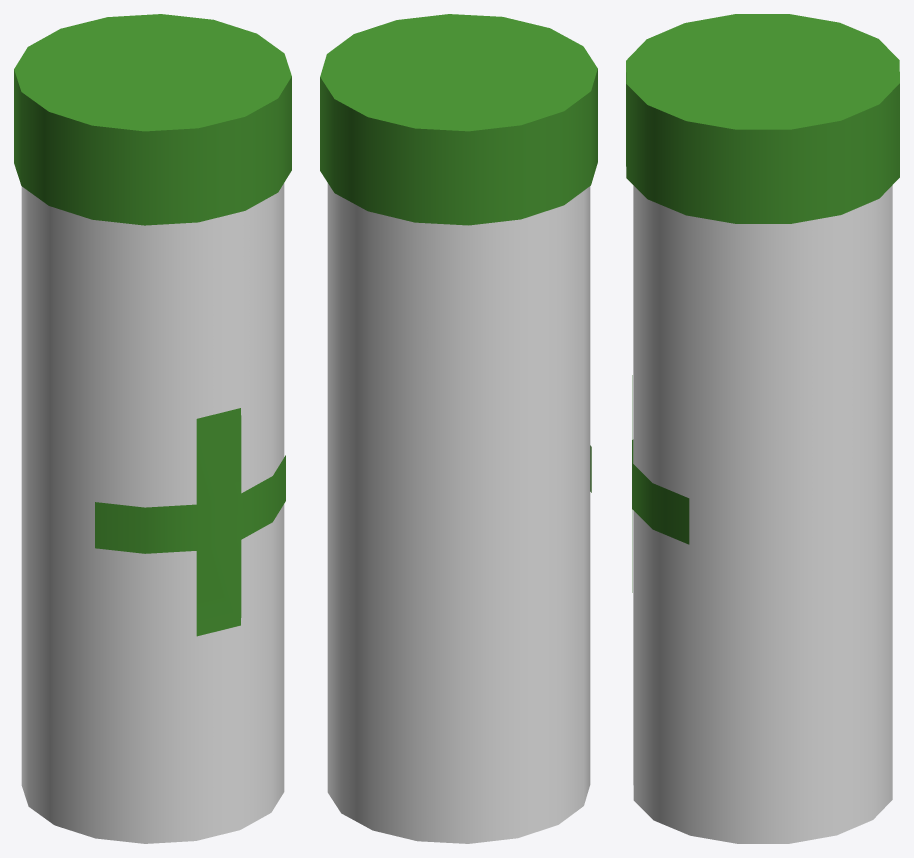
File: Midicine_03.fbx
3 views of the same model, side by side, from view 1: azimuth 30°, elevation 25°; view 2: azimuth 150°, elevation 25°; view 3: azimuth 270°, elevation 25° (orthographic).
Parts seen in each view (by area): view 1: Midicine_03; view 2: Midicine_03; view 3: Midicine_03.
Part boxes in pixels (<box>): Midicine_03: <box>14,14,291,843</box>; Midicine_03: <box>320,14,597,843</box>; Midicine_03: <box>626,14,899,843</box>.
Bounding box in the file's own units: 6.43 × 18.57 × 6.43.
